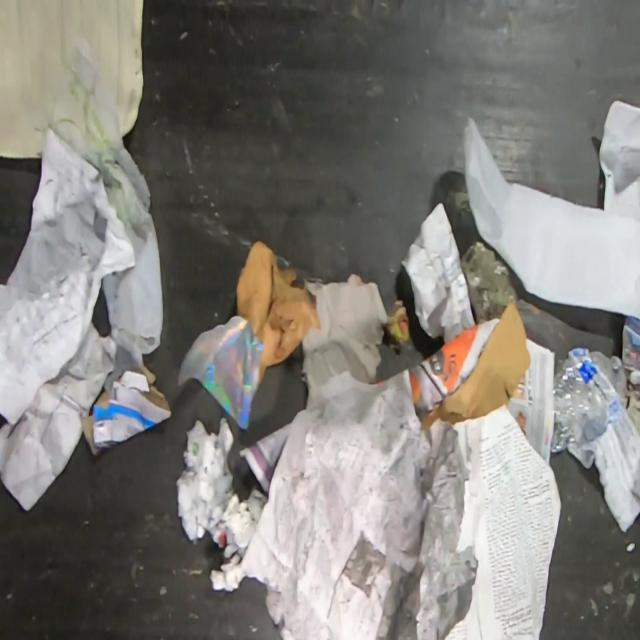cardboard: (409, 303, 531, 432), (235, 241, 322, 384), (79, 365, 173, 456), (461, 241, 517, 324)
rigid_plastic: (551, 347, 628, 454)
soft_plastic: (48, 28, 164, 358)
